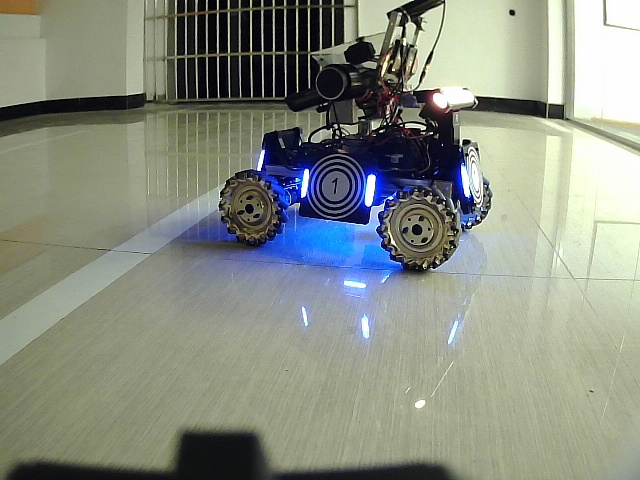lamp: (455, 164, 475, 200), (364, 172, 378, 208), (299, 165, 310, 200)
pair: (303, 168, 374, 207)
